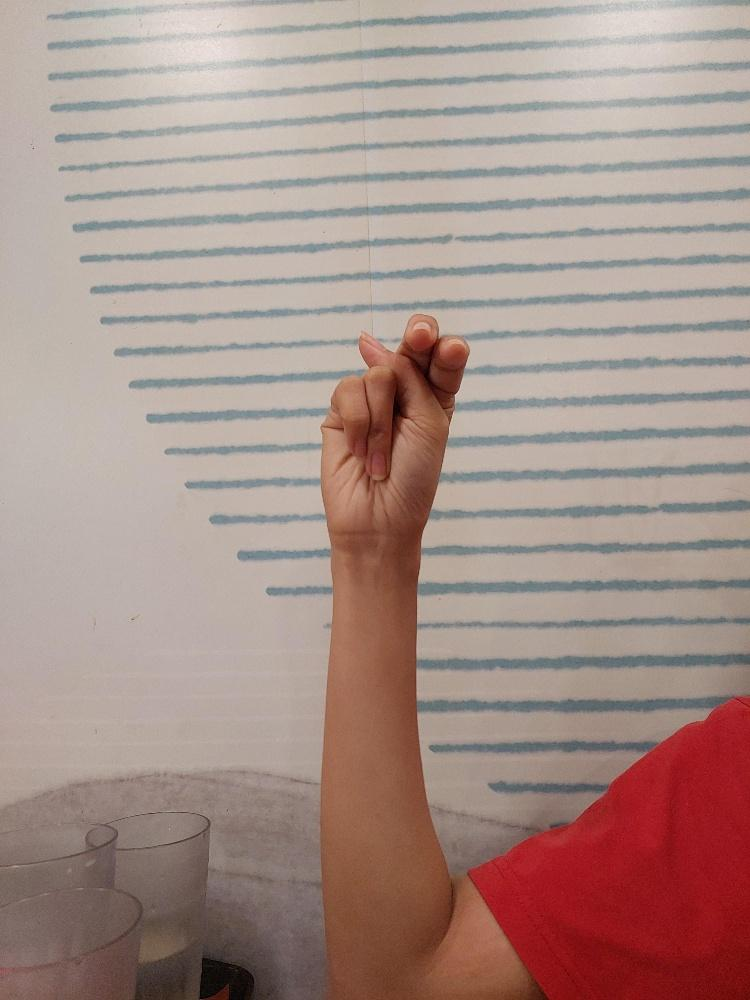n: (318, 311, 471, 546)
